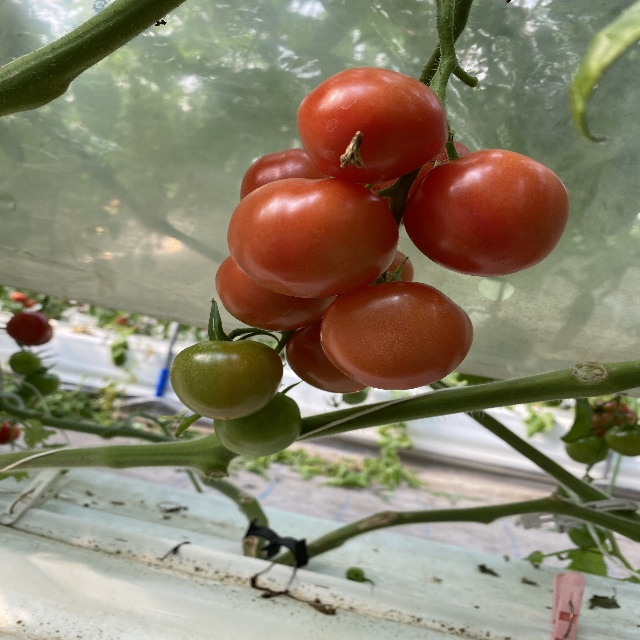l_fully_ripened: (402, 148, 570, 278), (228, 178, 398, 298), (295, 67, 450, 184), (319, 281, 474, 390), (217, 255, 343, 332), (284, 315, 370, 394), (238, 148, 332, 202)
l_green: (168, 340, 284, 421), (213, 392, 304, 457)
